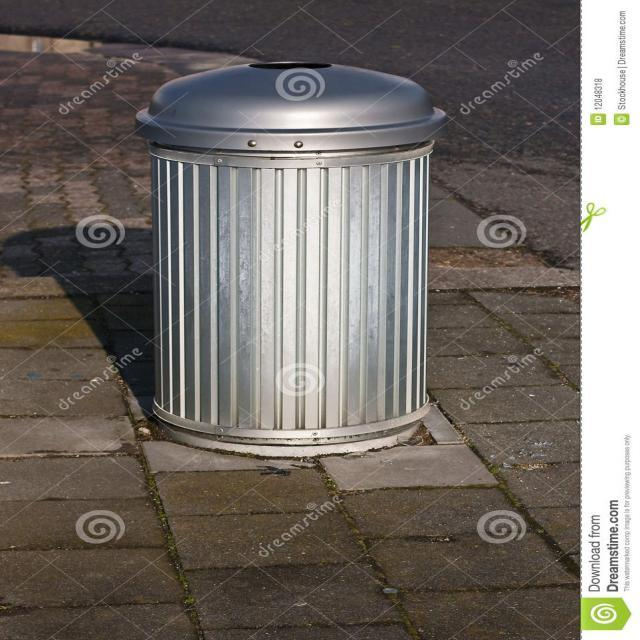bin: (93, 37, 481, 471)
